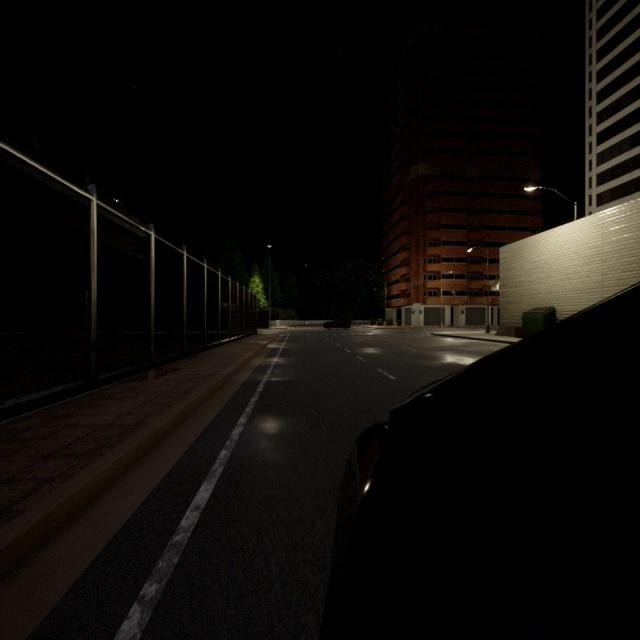Vehicle: (321, 285, 640, 639), (324, 317, 352, 329)
